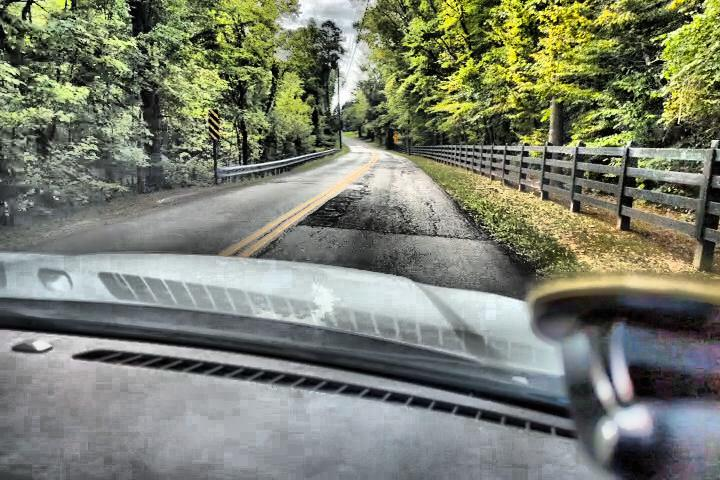pothole: (301, 198, 352, 227), (341, 177, 373, 197)
